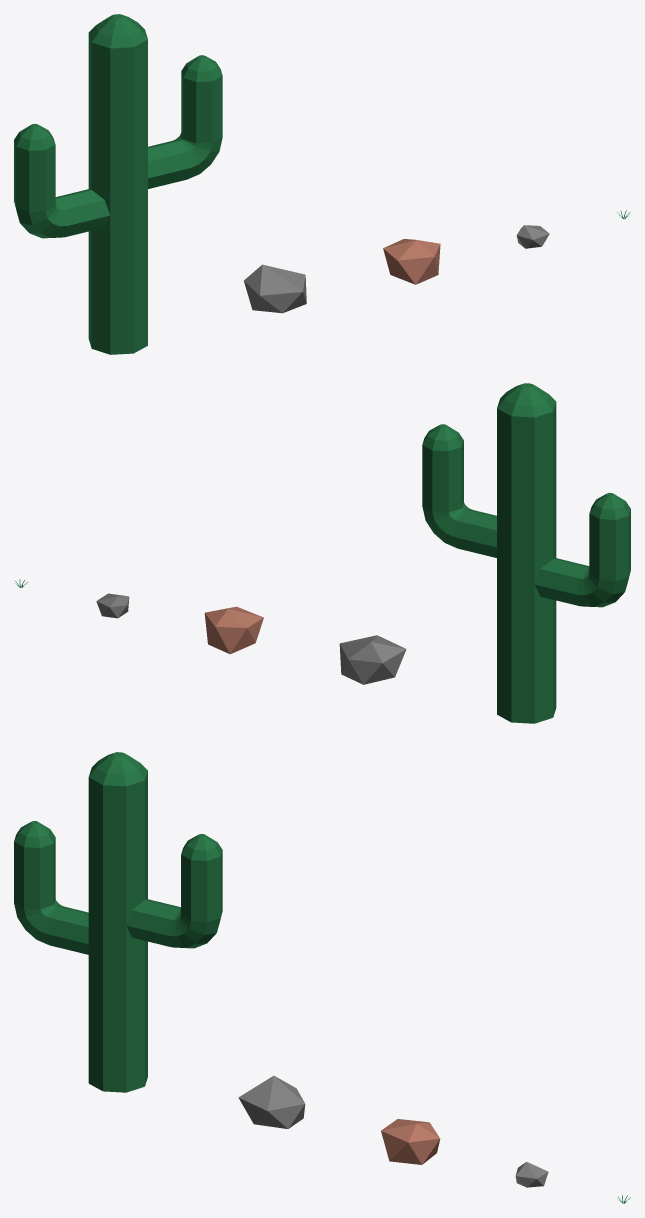
The model's file is CactusAssets.glb.
The picture shows the model from 3 angles, top to bottom: view 1: azimuth 30°, elevation 25°; view 2: azimuth 150°, elevation 25°; view 3: azimuth 330°, elevation 25°; orthographic projection.
Parts seen in each view (by area): view 1: Body, Arm2, Arm1, Rock1, Rock2, Rock3; view 2: Body, Arm2, Arm1, Rock1, Rock2, Rock3; view 3: Body, Arm1, Arm2, Rock1, Rock2, Rock3.
Part boxes in pixels (x1,y1,x2,y2): Body: (88, 14, 147, 354); Arm2: (14, 123, 109, 238); Arm1: (148, 55, 222, 188); Rock1: (244, 264, 306, 313); Rock2: (383, 239, 440, 284); Rock3: (516, 225, 549, 248); Body: (497, 383, 556, 723); Arm2: (535, 492, 630, 607); Arm1: (422, 424, 496, 557); Rock1: (339, 635, 406, 684); Rock2: (204, 606, 263, 654); Rock3: (96, 593, 129, 618); Body: (88, 752, 147, 1092); Arm1: (126, 834, 222, 948); Arm2: (14, 821, 88, 954); Rock1: (238, 1075, 305, 1128); Rock2: (381, 1119, 440, 1164); Rock3: (515, 1162, 548, 1187).
Size of the model in its own units: 23.08 by 11.99 by 2.14.
